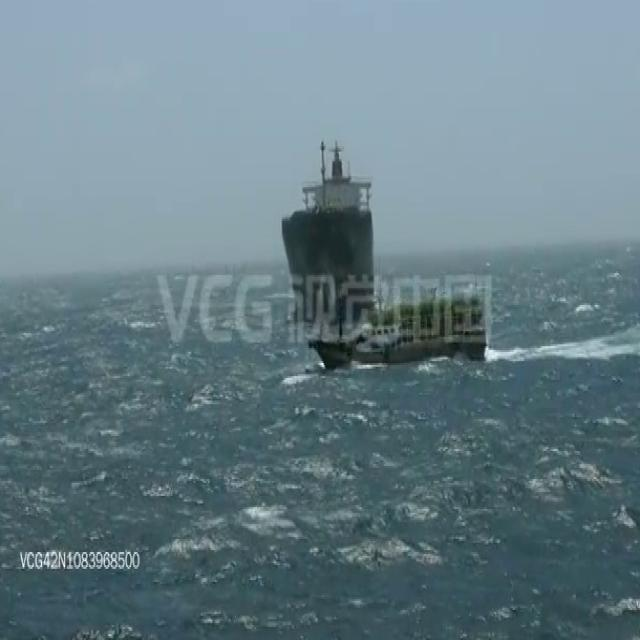cargoship: (281, 138, 374, 321)
fishing boat: (311, 289, 491, 370)
